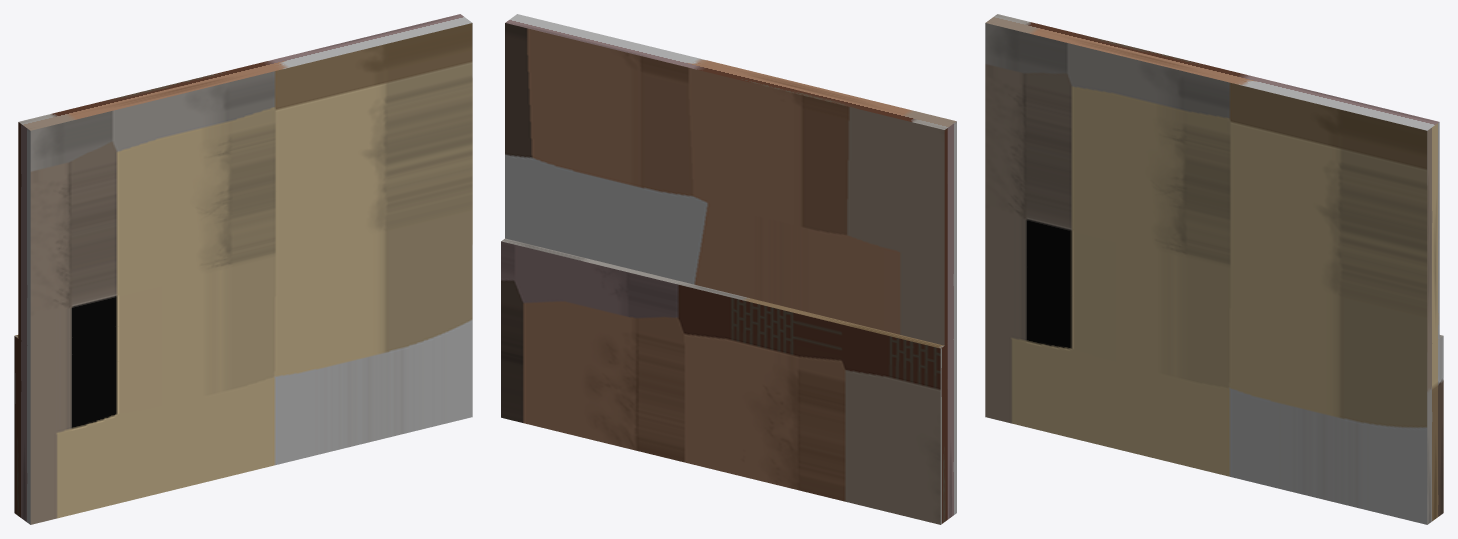
Rendered from concreteWall.fbx.
The picture shows the model from 3 angles, left to right: view 1: azimuth 30°, elevation 25°; view 2: azimuth 150°, elevation 25°; view 3: azimuth 330°, elevation 25°; orthographic projection.
Parts seen in each view (by area): view 1: Cube.006; view 2: Cube.006; view 3: Cube.006.
Part boxes in pixels (bbox=[...]): Cube.006: bbox=[14, 14, 472, 524]; Cube.006: bbox=[501, 14, 956, 524]; Cube.006: bbox=[985, 14, 1443, 524].
Size of the model in its own units: 414 by 353 by 26.35.
